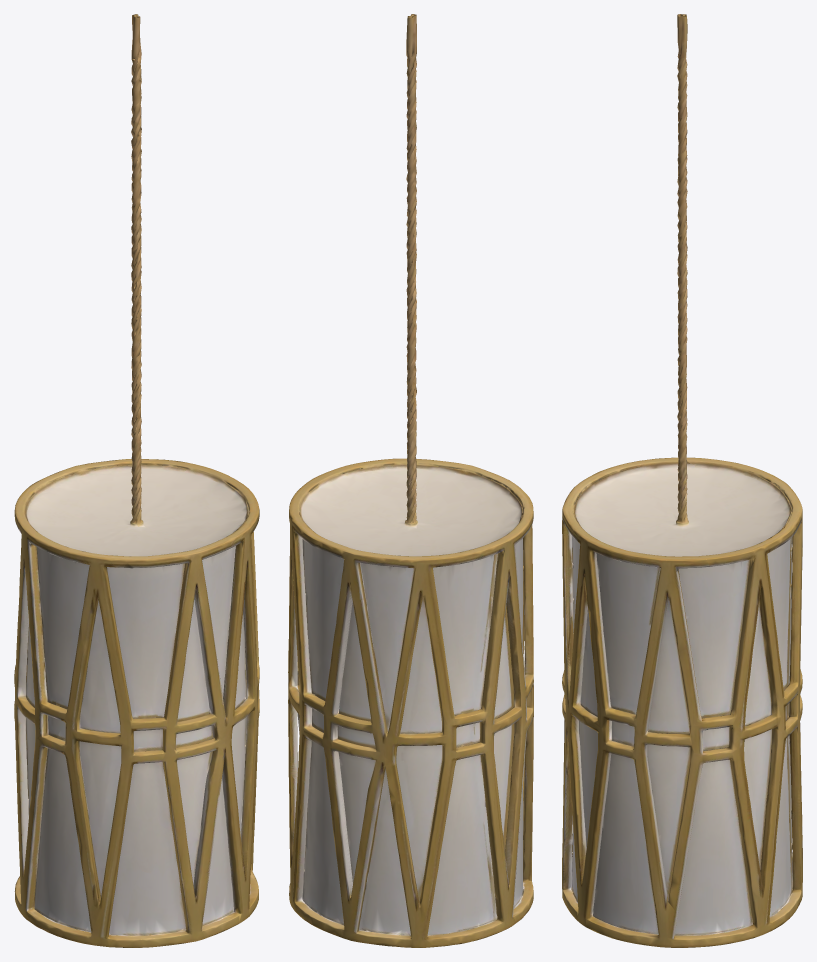
The model's file is decor-pendant-lamp.glb.
3 views of the same model, side by side, from view 1: azimuth 30°, elevation 25°; view 2: azimuth 150°, elevation 25°; view 3: azimuth 270°, elevation 25° (orthographic).
Visible parts, largest first — view 1: tripo_node_47a4a13a-ea27-4796-a8bf-757867366eb7; view 2: tripo_node_47a4a13a-ea27-4796-a8bf-757867366eb7; view 3: tripo_node_47a4a13a-ea27-4796-a8bf-757867366eb7.
Part boxes in pixels (x1,y1,x2,y2): tripo_node_47a4a13a-ea27-4796-a8bf-757867366eb7: (14, 14, 259, 947); tripo_node_47a4a13a-ea27-4796-a8bf-757867366eb7: (288, 14, 533, 947); tripo_node_47a4a13a-ea27-4796-a8bf-757867366eb7: (562, 14, 802, 947).
Bounding box in the file's own units: 0.1263 × 0.5 × 0.1239.
1 material, 1 textured.
